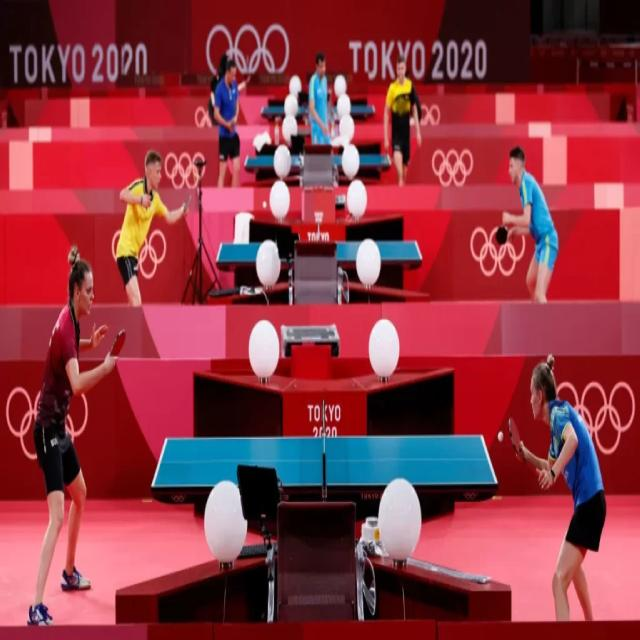TT Net: (321, 396, 329, 500), (315, 220, 323, 269)
TT Racket: (504, 410, 524, 460), (107, 321, 129, 366), (493, 221, 510, 249), (181, 190, 193, 217)
TT Table: (149, 434, 499, 488), (215, 240, 421, 264), (245, 151, 391, 170), (261, 104, 374, 117)
